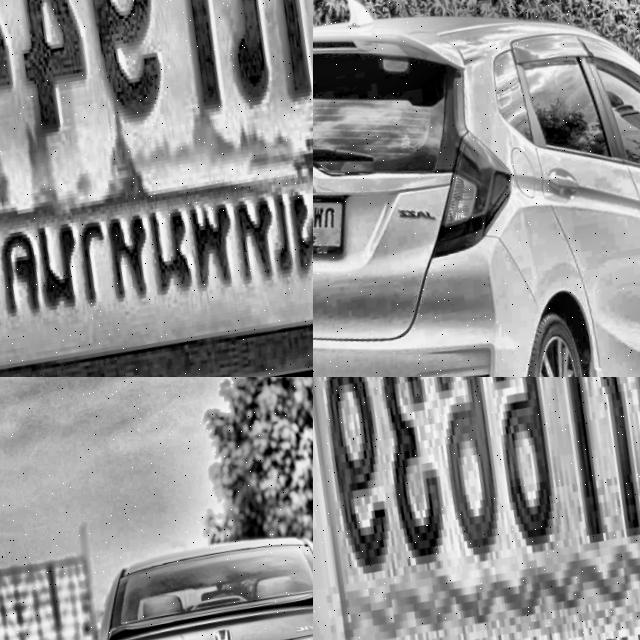license-plate: (0, 0, 313, 377), (313, 377, 640, 640), (313, 179, 359, 269)
